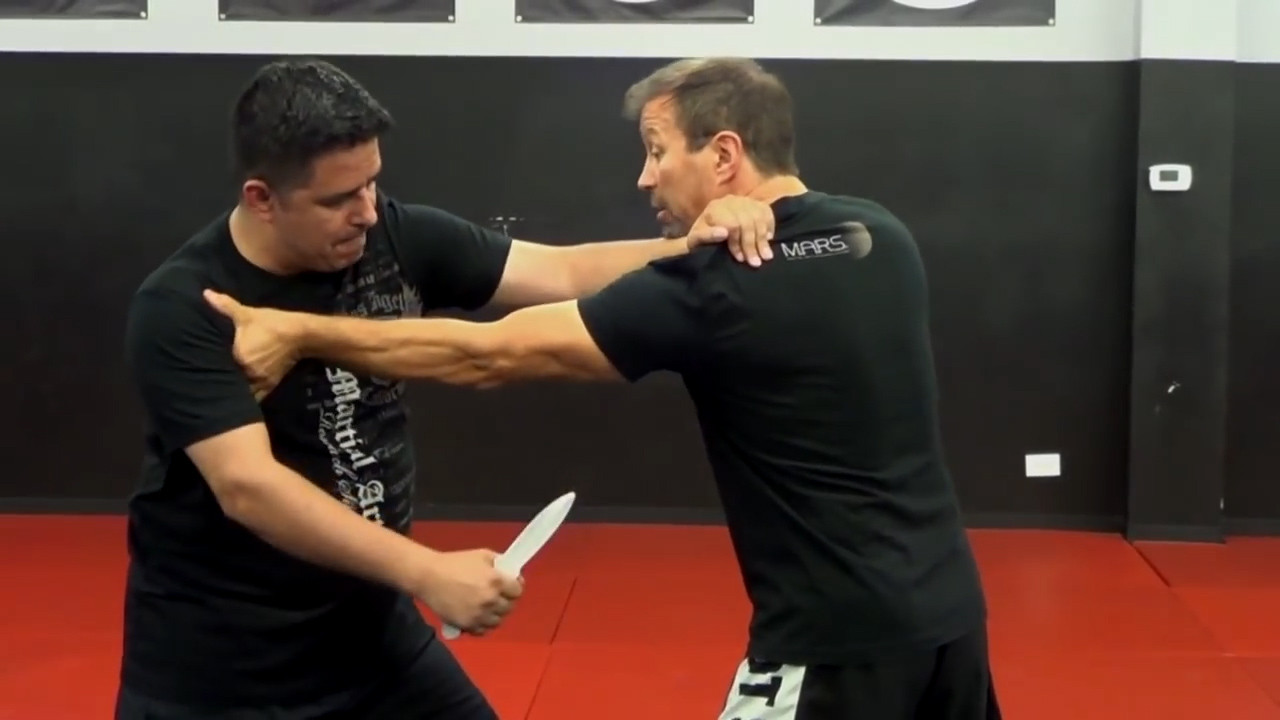knife: (430, 482, 582, 646)
